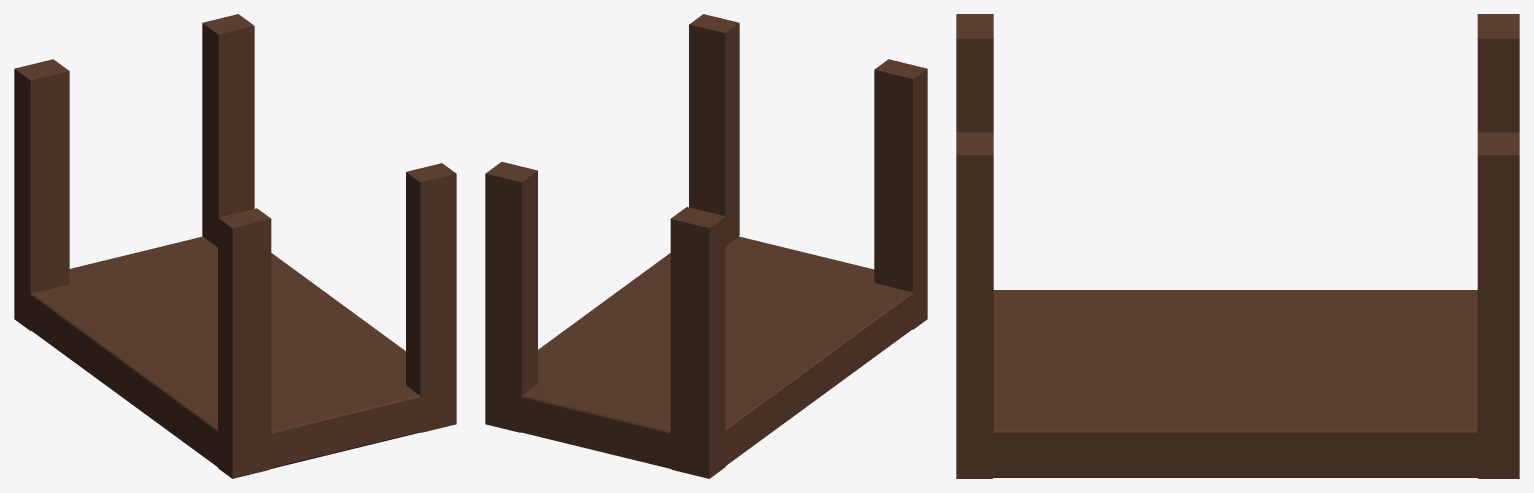
The model's file is Computerdesk_15_Mai.fbx.
The picture shows the model from 3 angles, left to right: view 1: azimuth 30°, elevation 25°; view 2: azimuth 150°, elevation 25°; view 3: azimuth 270°, elevation 25°; orthographic projection. The views are drawn at different scales.
Visible parts, largest first — view 1: Cube; view 2: Cube; view 3: Cube.
Boxes of the visible parts, <box> form: Cube: <box>14,14,456,478</box>; Cube: <box>485,14,927,478</box>; Cube: <box>956,14,1519,478</box>.
Bounding box in the file's own units: 200 × 214 × 337.
